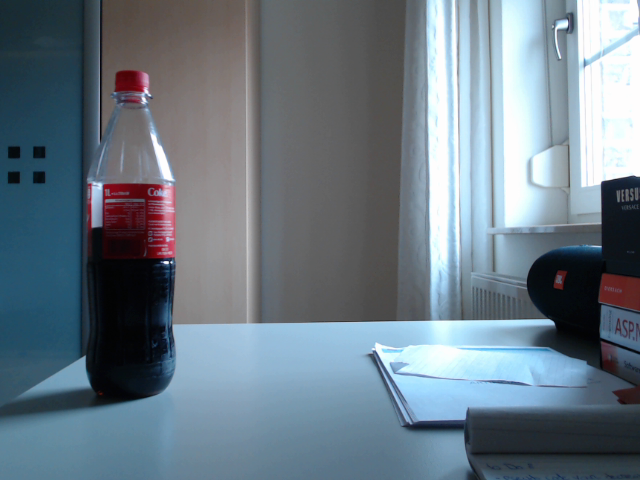bottle: (85, 70, 176, 400)
